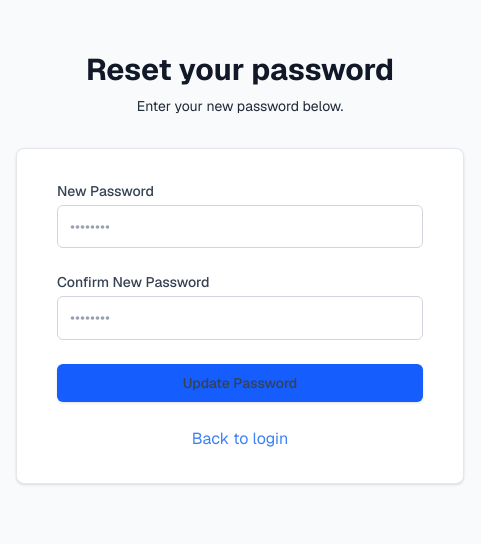
Test: Reset Password Flow End-to-End › handles generic failure with fallback error message
Step 1. Type "validPassword123" into the password field labelled "New Password" → [240, 226], box top-left (57, 205), bottom-right (423, 248)
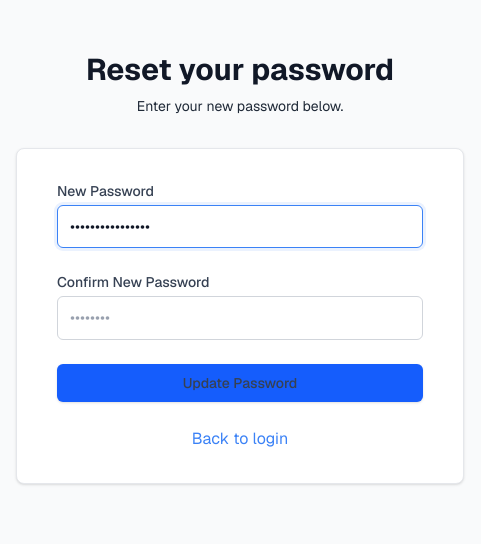
Step 2. Type "validPassword123" into the password field labelled "Confirm New Password" → [240, 318], box top-left (57, 296), bottom-right (423, 340)
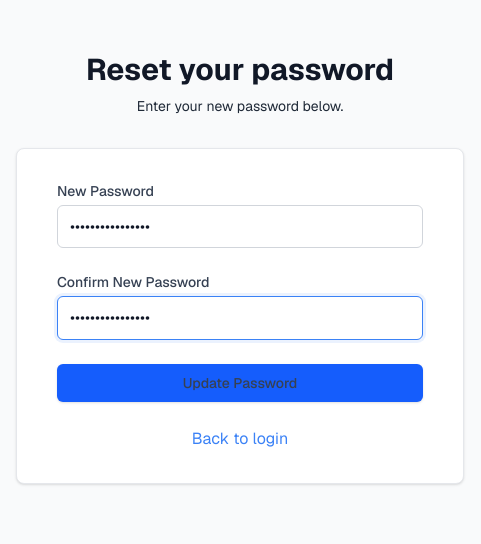
Step 3. Click the button "Update Password" → [240, 383], box top-left (57, 364), bottom-right (423, 402)
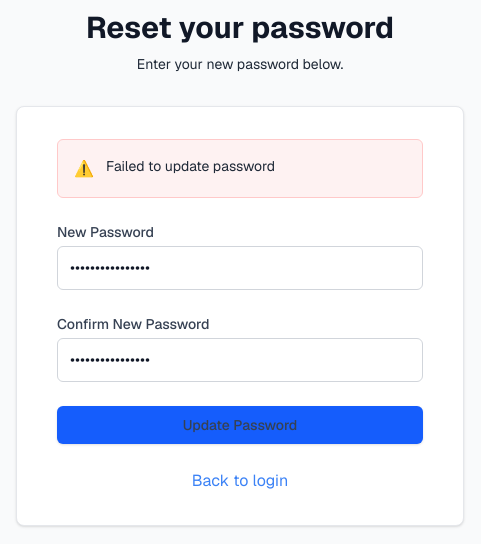
expect the text "Failed to update password" is shown: met, box top-left (106, 156), bottom-right (275, 176)
